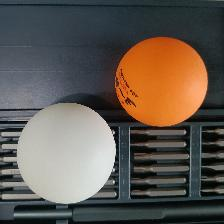WhiteBall: (17, 102, 116, 203)
YellowBall: (114, 36, 208, 126)
